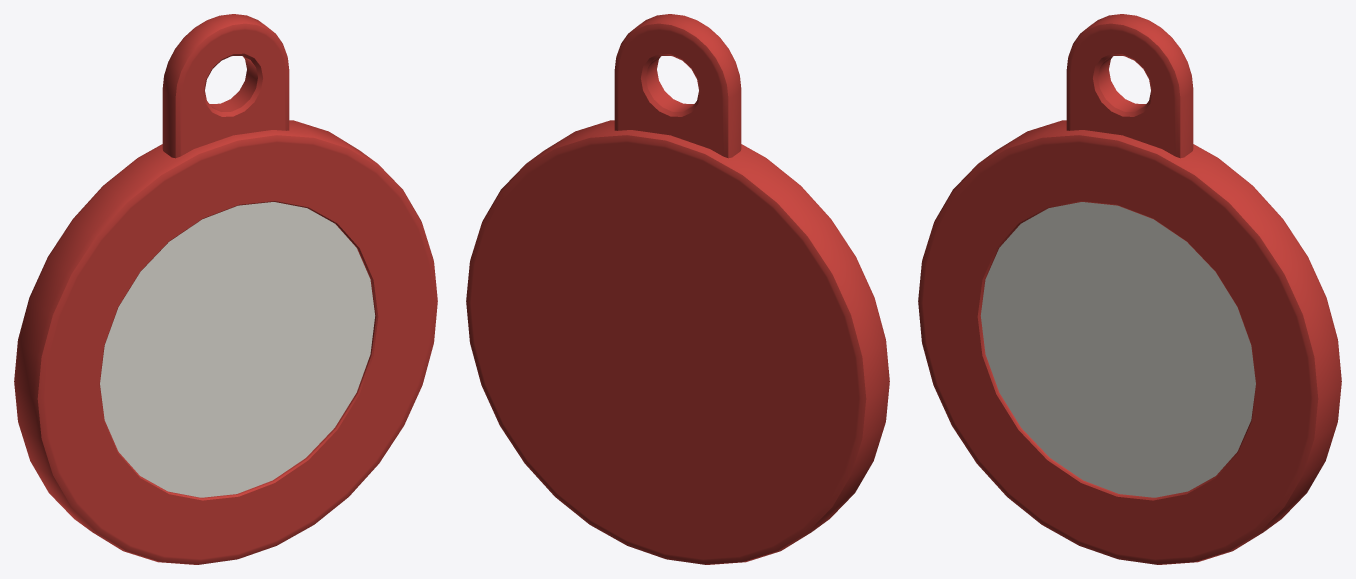
File: Kit_KeyTag_Round.fbx
3 renders of one model, left to right at view 1: azimuth 30°, elevation 25°; view 2: azimuth 150°, elevation 25°; view 3: azimuth 330°, elevation 25°, orthographic.
Parts seen in each view (by area): view 1: Kit_KeyTag_Round_LOD0; view 2: Kit_KeyTag_Round_LOD0; view 3: Kit_KeyTag_Round_LOD0.
Boxes of the visible parts, x1,y1,x2,y2 form: Kit_KeyTag_Round_LOD0: [14, 14, 437, 564]; Kit_KeyTag_Round_LOD0: [466, 14, 889, 564]; Kit_KeyTag_Round_LOD0: [918, 14, 1341, 564].
Size of what is drawn, in the model's own units: 0.038 by 0.048 by 0.0042.
